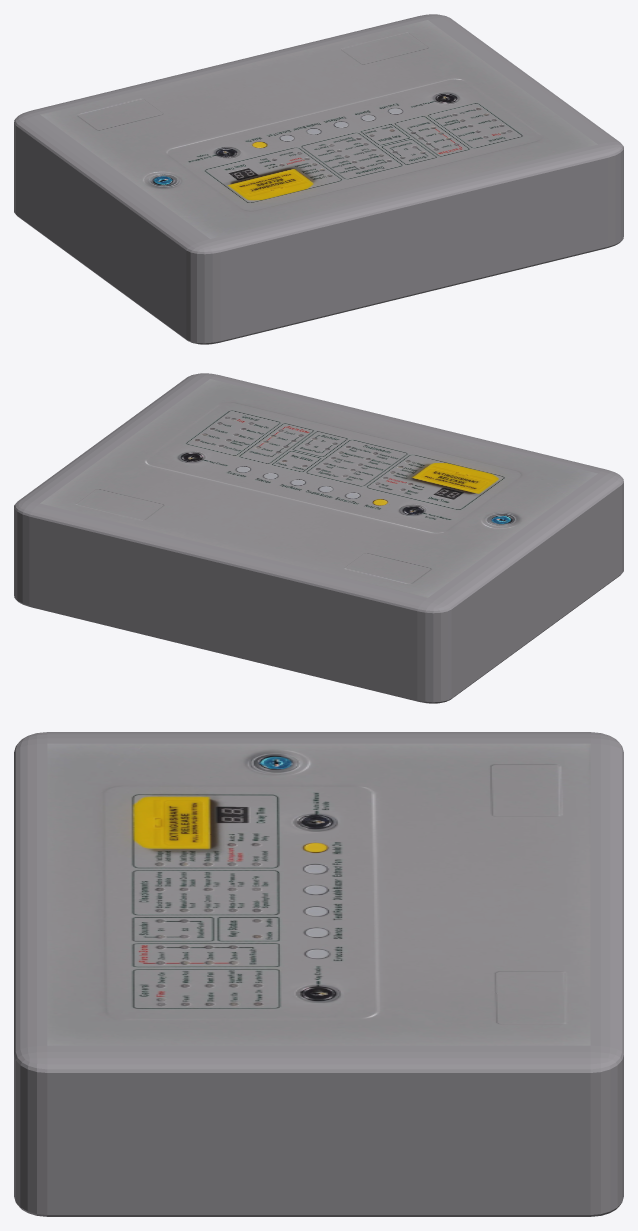
File: bembo2.fbx
3 views of the same model, one above another, from view 1: azimuth 30°, elevation 25°; view 2: azimuth 150°, elevation 25°; view 3: azimuth 270°, elevation 25° (orthographic). The views are drawn at different scales.
Visible parts, largest first — view 1: Cube; view 2: Cube; view 3: Cube.
Boxes of the visible parts, left/top/right/bottom form: Cube: left=14, top=14, right=623, bottom=344; Cube: left=14, top=373, right=623, bottom=703; Cube: left=14, top=732, right=623, bottom=1216.
Size of the model in its own units: 2234 by 490 by 1698.
